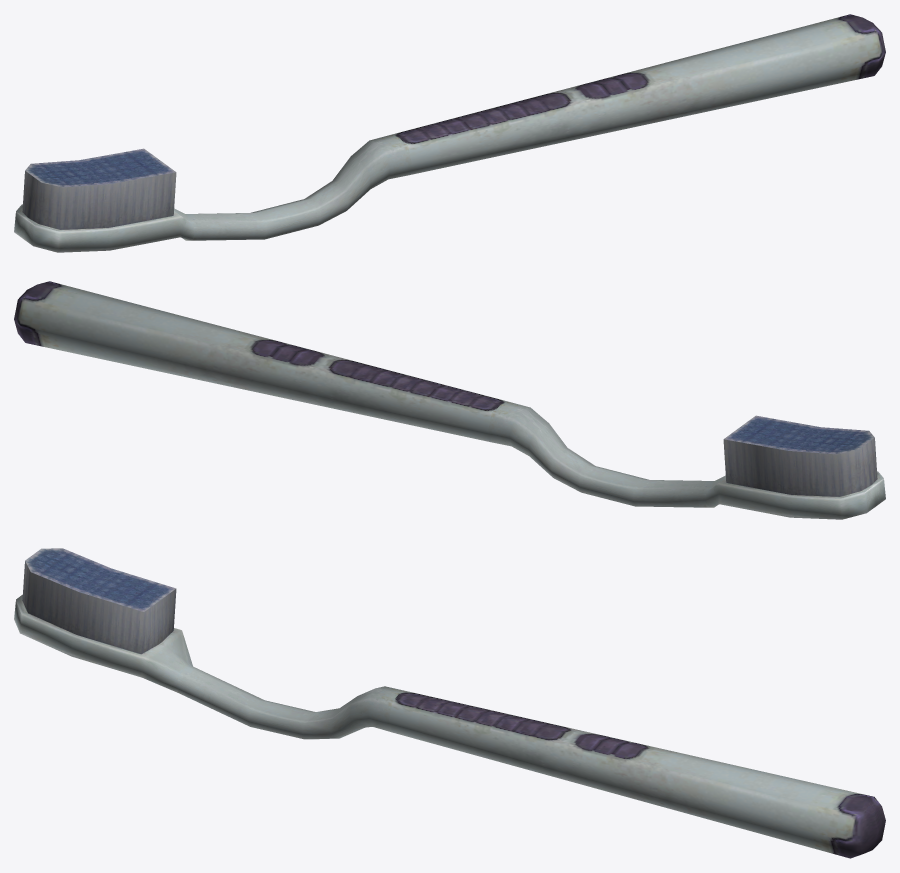
The model's file is tooth_brush.dae.
3 renders of one model, top to bottom at view 1: azimuth 30°, elevation 25°; view 2: azimuth 150°, elevation 25°; view 3: azimuth 330°, elevation 25°, orthographic.
Visible parts, largest first — view 1: polySurface3; view 2: polySurface3; view 3: polySurface3.
Boxes of the visible parts, <box> form: polySurface3: <box>14,14,885,252</box>; polySurface3: <box>14,281,885,519</box>; polySurface3: <box>14,548,885,858</box>.
Bounding box in the file's own units: 0.2032 × 0.0267 × 0.0156.
